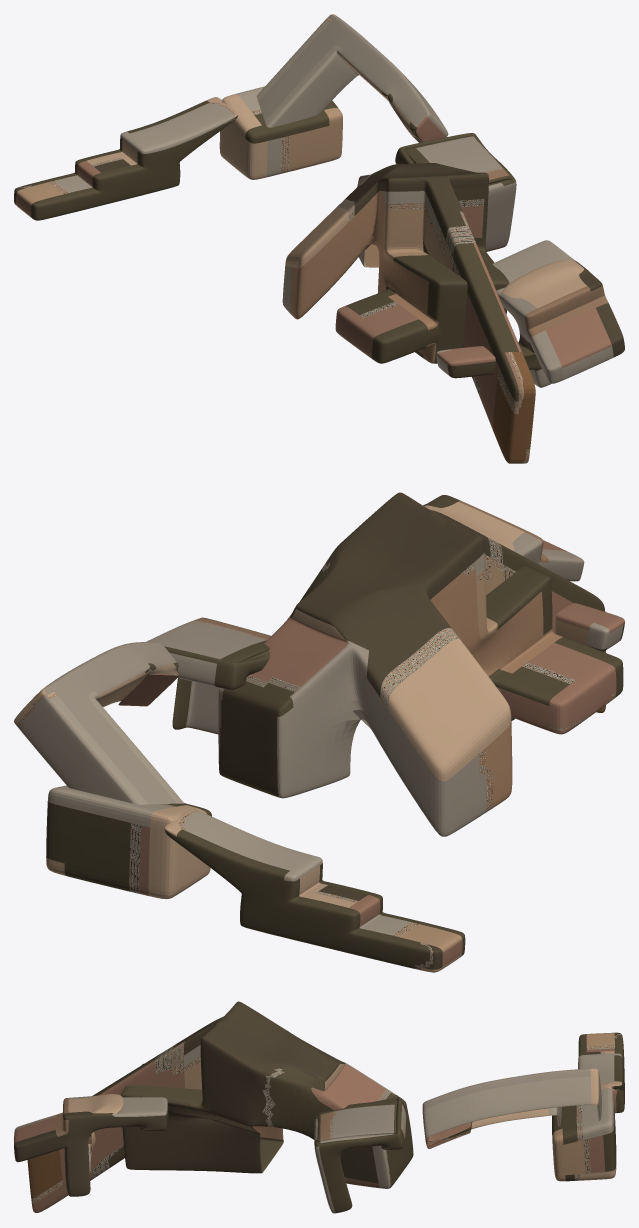
Rendered from gym1sd.glb.
The picture shows the model from 3 angles, top to bottom: view 1: azimuth 30°, elevation 25°; view 2: azimuth 150°, elevation 25°; view 3: azimuth 270°, elevation 25°; orthographic projection. The views are drawn at different scales.
Parts seen in each view (by area): view 1: doors.002; view 2: doors.002; view 3: doors.002.
Boxes of the visible parts, <box> form: doors.002: <box>14,14,624,463</box>; doors.002: <box>14,492,624,972</box>; doors.002: <box>14,1001,624,1213</box>.
Bounding box in the file's own units: 19.39 × 11.37 × 31.69.
Materials: 1 (1 with a texture image).
